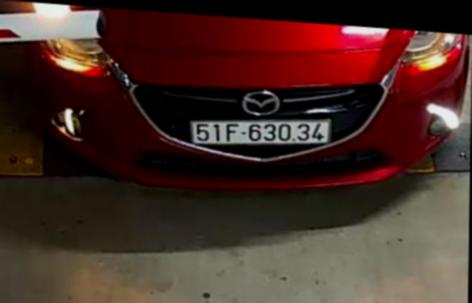License_Plate: (187, 111, 333, 154)
